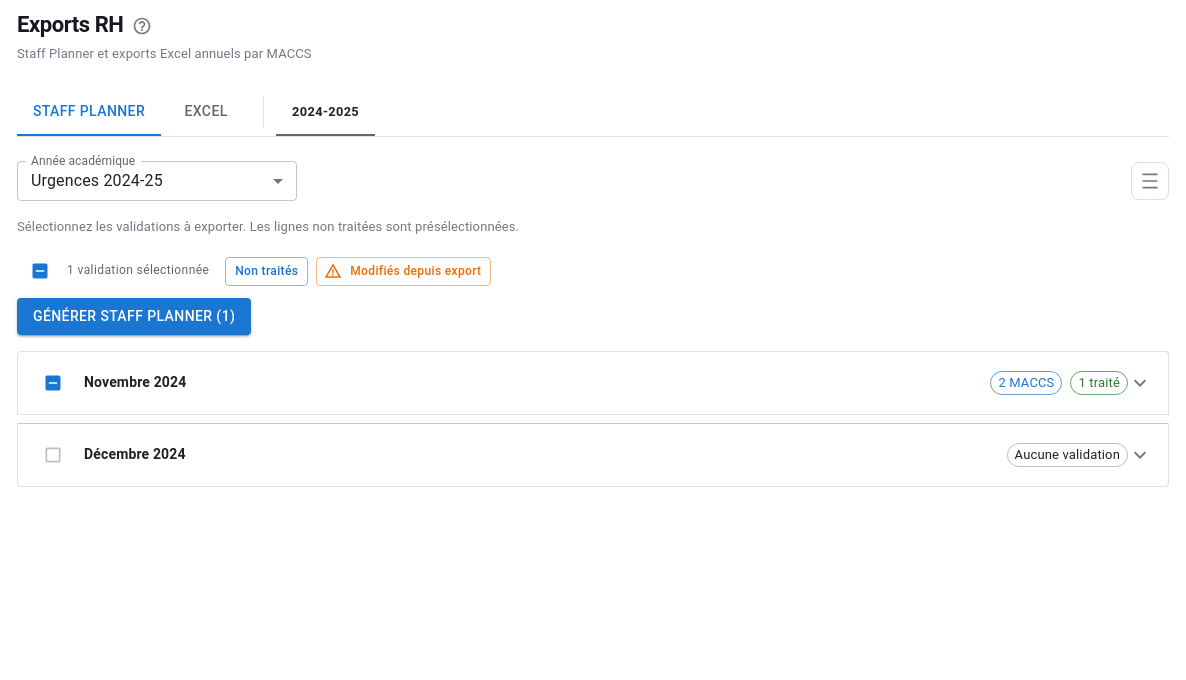
HospitalAdminExportsPage › Bob apparaît même sans ResidentValidation
Click the text "Novembre 2024". click: coordinates (135, 382)
box: [84,374,186,390]
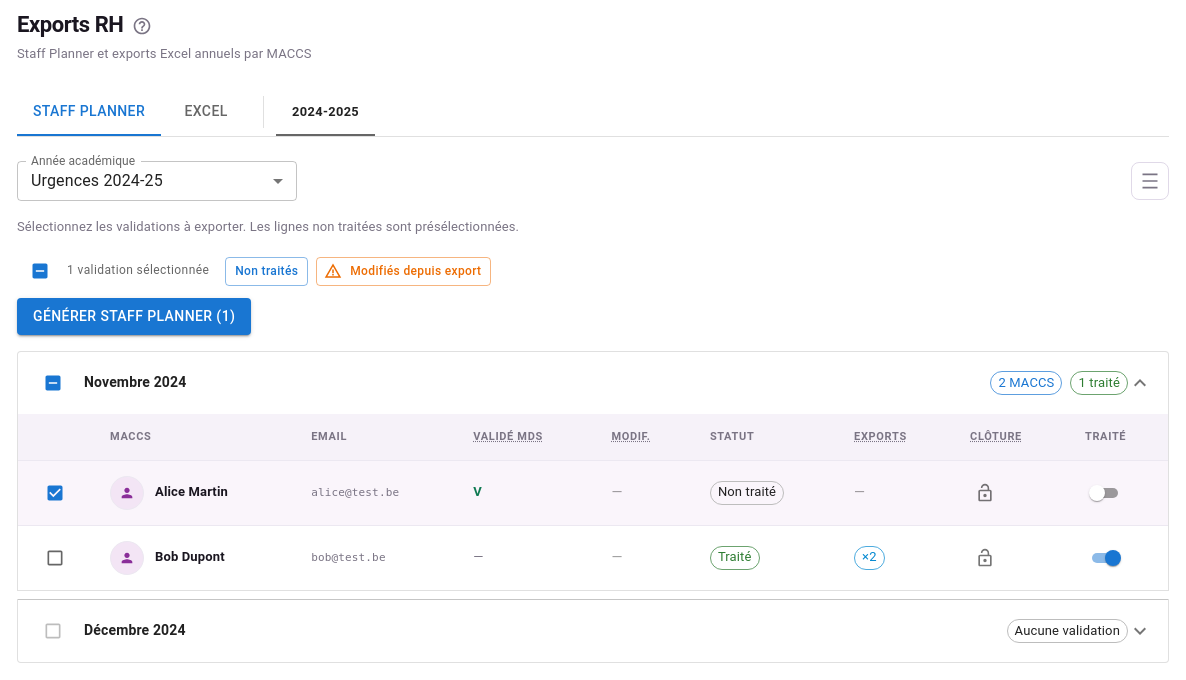
Check: the text "Alice Martin" is shown, box [155,483,228,502]
Check: the text "Bob Dupont" is shown, box [155,548,225,567]
